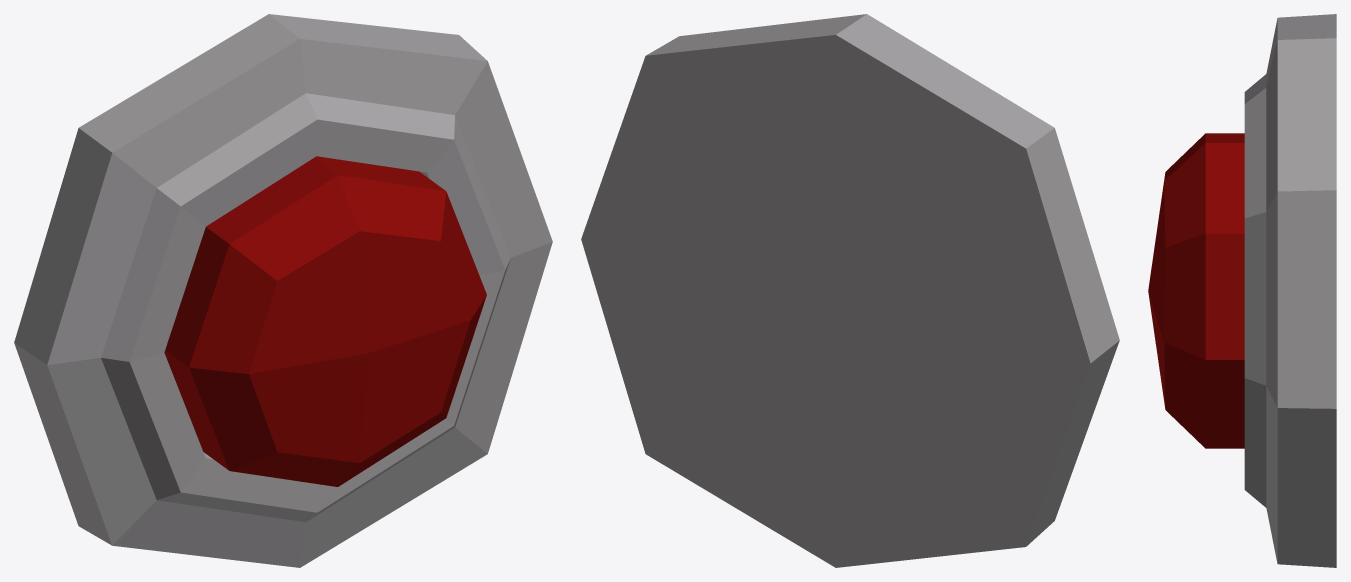
Rendered from SkapeKeyButton LowPolyFlat.fbx.
3 renders of one model, left to right at view 1: azimuth 30°, elevation 25°; view 2: azimuth 150°, elevation 25°; view 3: azimuth 270°, elevation 25°, orthographic. The views are drawn at different scales.
Parts seen in each view (by area): view 1: Cube; view 2: Cube; view 3: Cube.
Part boxes in pixels (x1,y1,x2,y2): Cube: (14, 14, 552, 567); Cube: (581, 14, 1119, 567); Cube: (1148, 14, 1336, 567).
Size of the model in its own units: 313 by 313 by 106.
